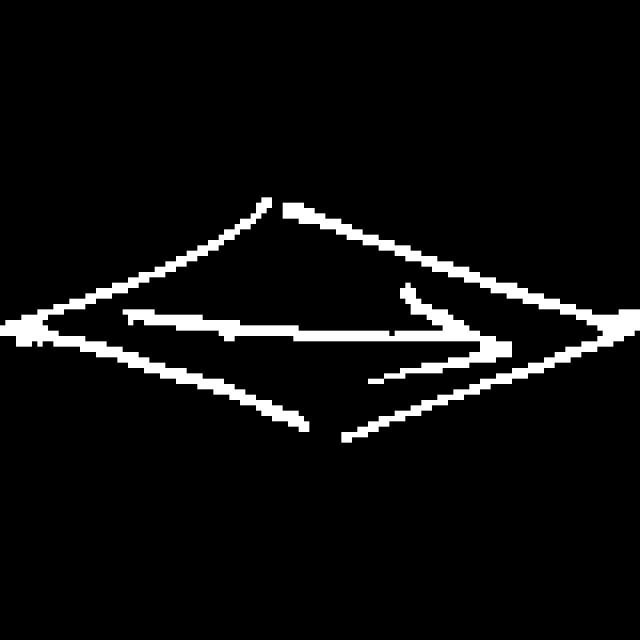dependant_current: (0, 192, 635, 459)
